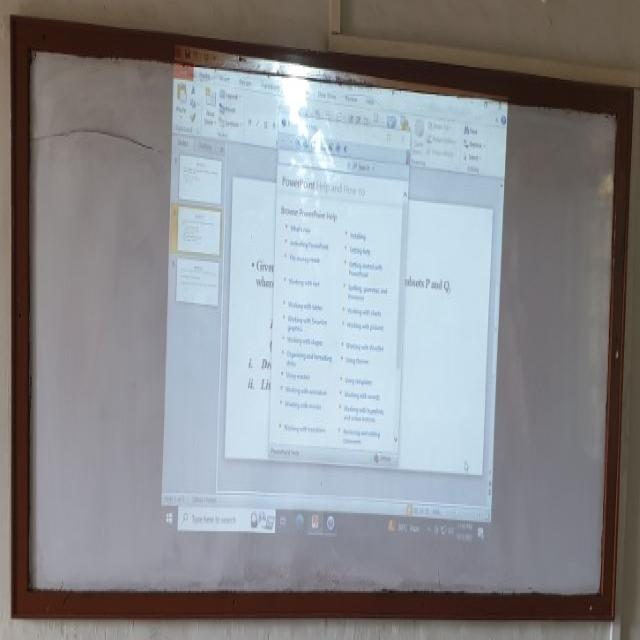Slide: (158, 47, 509, 552)
White-board: (22, 30, 623, 605)
